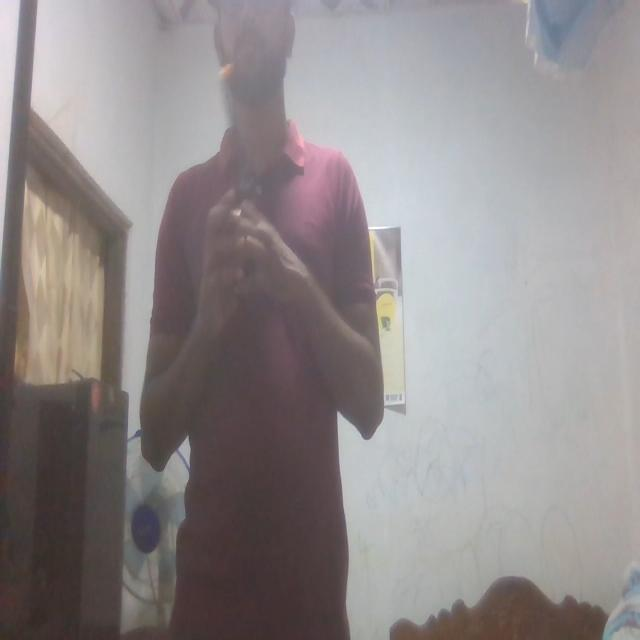Person: (145, 0, 398, 640)
